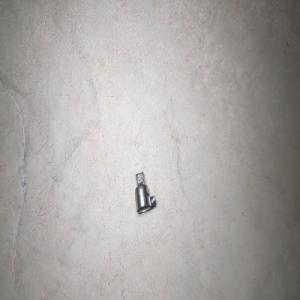MetalPart: (134, 171, 156, 213)
